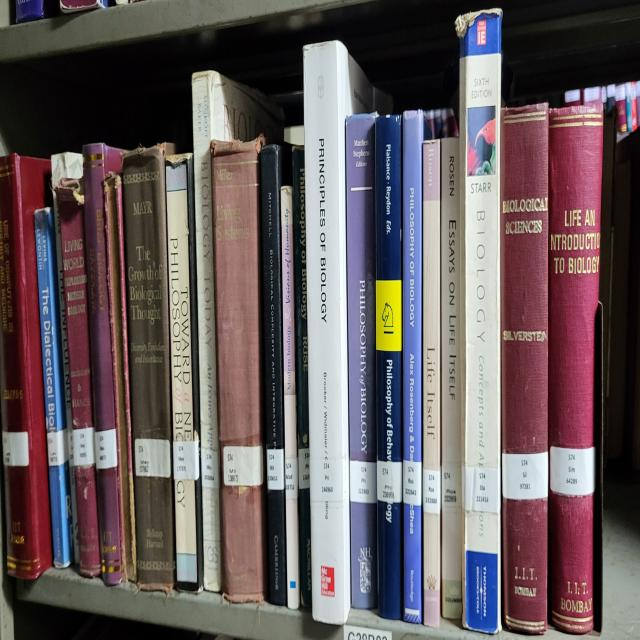Book: (191, 70, 284, 593), (304, 41, 374, 625), (456, 8, 502, 633), (549, 106, 602, 633), (210, 135, 268, 603), (501, 103, 549, 633), (122, 143, 176, 590), (0, 154, 51, 579), (56, 179, 101, 576), (82, 143, 121, 584), (345, 114, 378, 609), (165, 154, 202, 590), (35, 208, 74, 568), (375, 116, 402, 620), (402, 111, 424, 625), (441, 138, 462, 620), (422, 141, 441, 628), (292, 149, 311, 606), (280, 187, 300, 609)
Label: (502, 452, 548, 501), (550, 446, 595, 495), (462, 465, 500, 514), (310, 457, 349, 503), (224, 446, 264, 487), (135, 438, 171, 479), (350, 460, 376, 503), (172, 441, 200, 479), (378, 460, 402, 503), (2, 430, 29, 465), (95, 427, 118, 468), (441, 465, 461, 509), (72, 427, 95, 465), (422, 468, 440, 514), (48, 427, 69, 465), (404, 460, 421, 506), (266, 449, 285, 490), (201, 449, 219, 490), (285, 457, 298, 501), (298, 449, 310, 490)
